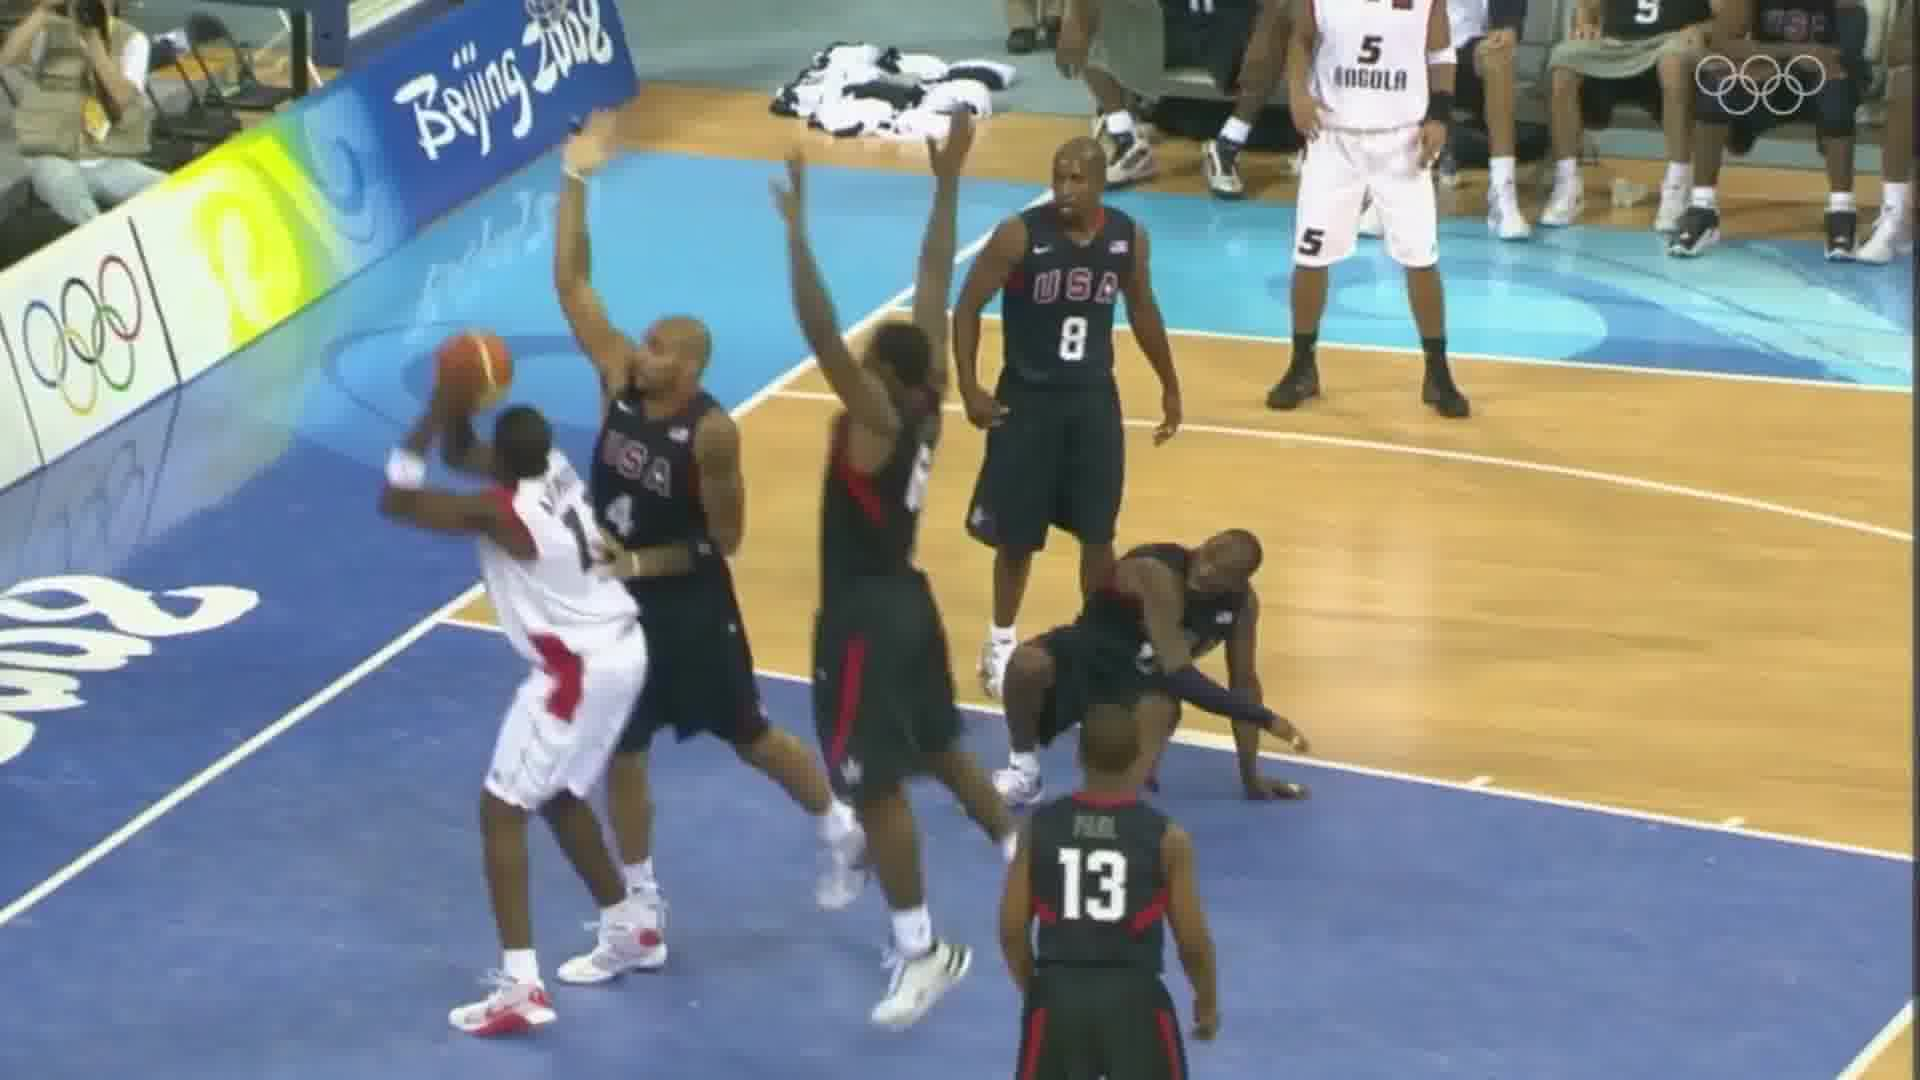ball: (419, 320, 522, 411)
